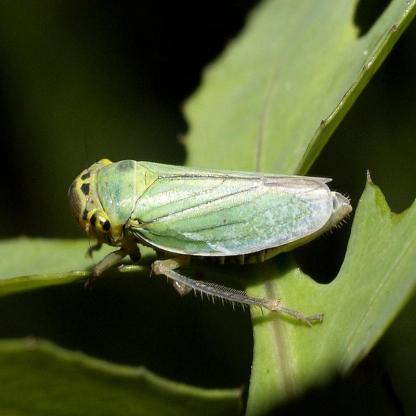Green-Leafhopper: (68, 143, 351, 328)
